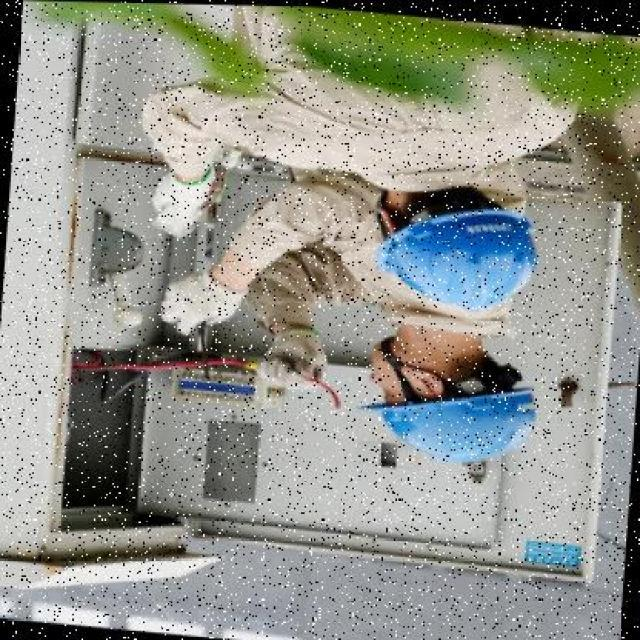helmet: (349, 343, 551, 471), (368, 177, 548, 319)
